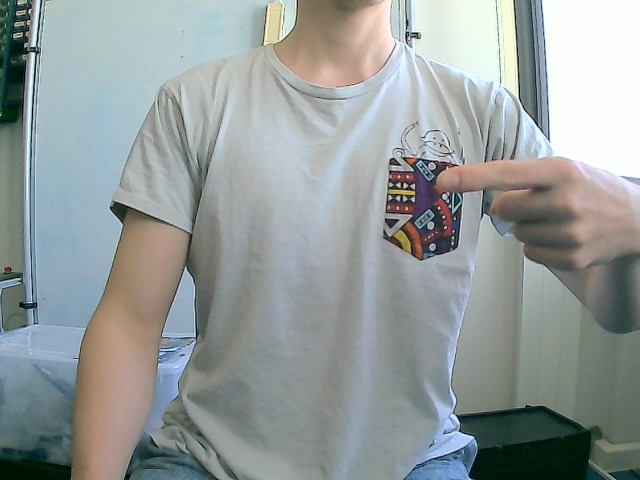right: (434, 155, 639, 273)
